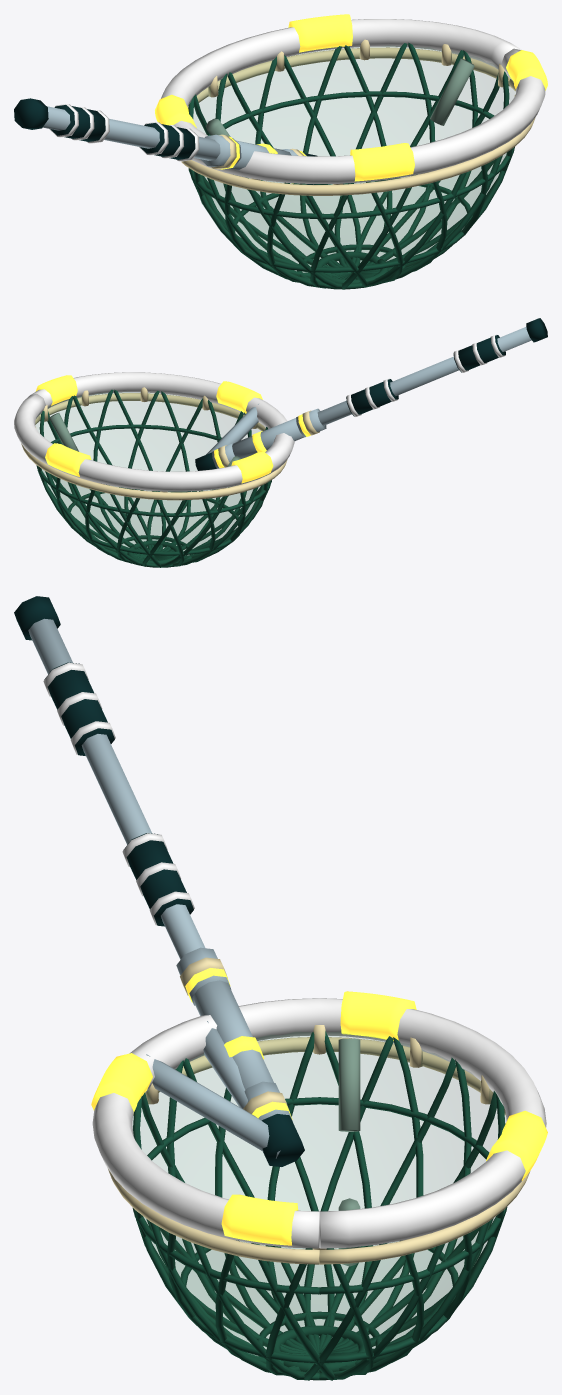
File: net-red-sol.glb
3 views of the same model, one above another, from view 1: azimuth 30°, elevation 25°; view 2: azimuth 150°, elevation 25°; view 3: azimuth 270°, elevation 25° (orthographic). The views are drawn at different scales.
Parts seen in each view (by area): view 1: Open woven pouch.006, Woven green cord.006, NetColor.013, Equipment cream.016, Signal red-sol.001, Brushed steel.004, Equipment lagoon.015, Recovered metal.005, NetColor.012; view 2: Open woven pouch.006, Woven green cord.006, NetColor.013, Equipment cream.016, Brushed steel.004, Signal red-sol.001, Equipment lagoon.015, NetColor.012, Brushed steel.005, Recovered metal.005, Signal red-sol, Equipment cream.015; view 3: Open woven pouch.006, Woven green cord.006, NetColor.013, Brushed steel.004, Signal red-sol.001, Equipment cream.016, Equipment lagoon.015, Brushed steel.005, Recovered metal.005, NetColor.012, Equipment lagoon.016, Signal red-sol (+1 smaller).
Part boxes in pixels (x1,y1,x2,y2): Open woven pouch.006: [188, 46, 515, 285]; Woven green cord.006: [188, 42, 514, 289]; NetColor.013: [161, 19, 545, 184]; Equipment cream.016: [181, 39, 535, 195]; Signal red-sol.001: [155, 14, 547, 181]; Brushed steel.004: [43, 106, 306, 170]; Equipment lagoon.015: [14, 98, 195, 159]; Recovered metal.005: [205, 58, 474, 136]; NetColor.012: [49, 104, 199, 161]; Open woven pouch.006: [36, 392, 264, 564]; Woven green cord.006: [36, 389, 271, 567]; NetColor.013: [14, 372, 294, 491]; Equipment cream.016: [21, 387, 287, 500]; Brushed steel.004: [212, 327, 531, 468]; Signal red-sol.001: [35, 375, 273, 483]; Equipment lagoon.015: [346, 318, 547, 416]; NetColor.012: [346, 334, 505, 416]; Brushed steel.005: [206, 404, 258, 454]; Recovered metal.005: [49, 413, 241, 490]; Signal red-sol: [214, 414, 310, 467]; Equipment cream.015: [218, 410, 319, 467]; Open woven pouch.006: [133, 1032, 505, 1377]; Woven green cord.006: [132, 1031, 507, 1380]; NetColor.013: [92, 998, 546, 1248]; Brushed steel.004: [28, 618, 292, 1121]; Signal red-sol.001: [91, 991, 547, 1245]; Equipment cream.016: [108, 1025, 530, 1264]; Equipment lagoon.015: [14, 596, 193, 926]; Brushed steel.005: [146, 1021, 280, 1158]; Recovered metal.005: [338, 1038, 360, 1266]; NetColor.012: [43, 662, 194, 925]; Equipment lagoon.016: [262, 1114, 304, 1166]; Signal red-sol: [185, 968, 292, 1119].
Size of the model in its own units: 3.18 by 1.78 by 1.78.
